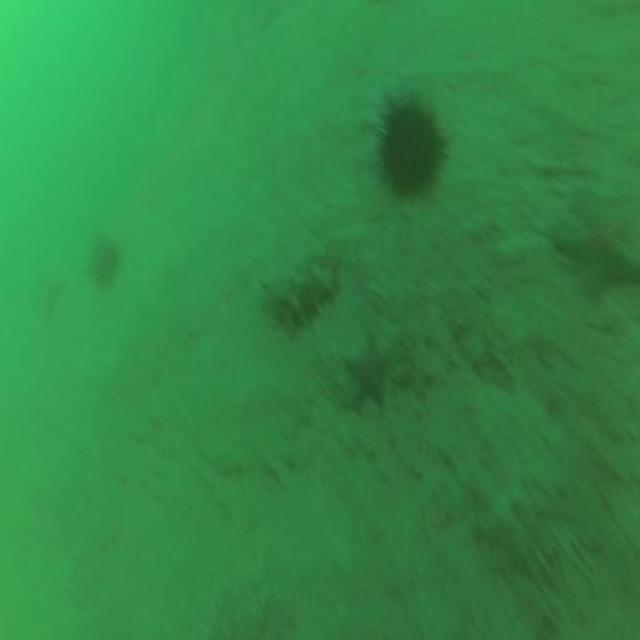echinus: (365, 81, 455, 215)
holothurian: (255, 251, 341, 321)
starfish: (553, 202, 640, 300), (340, 328, 394, 416)
